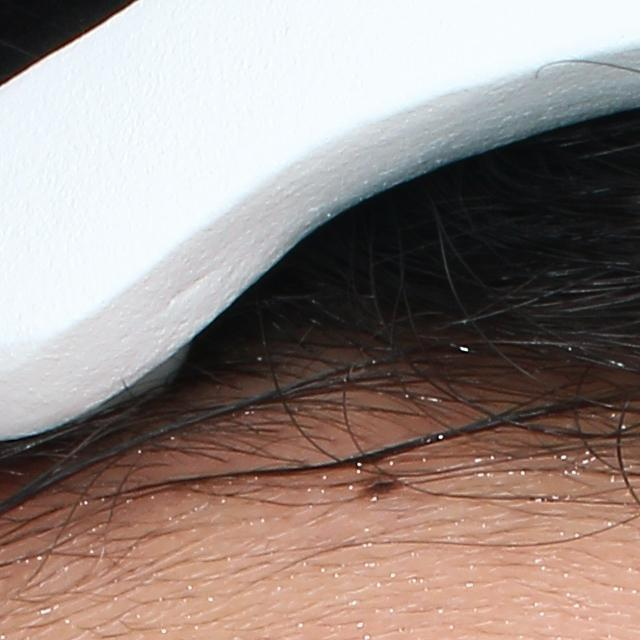nevus: (358, 463, 400, 498)
